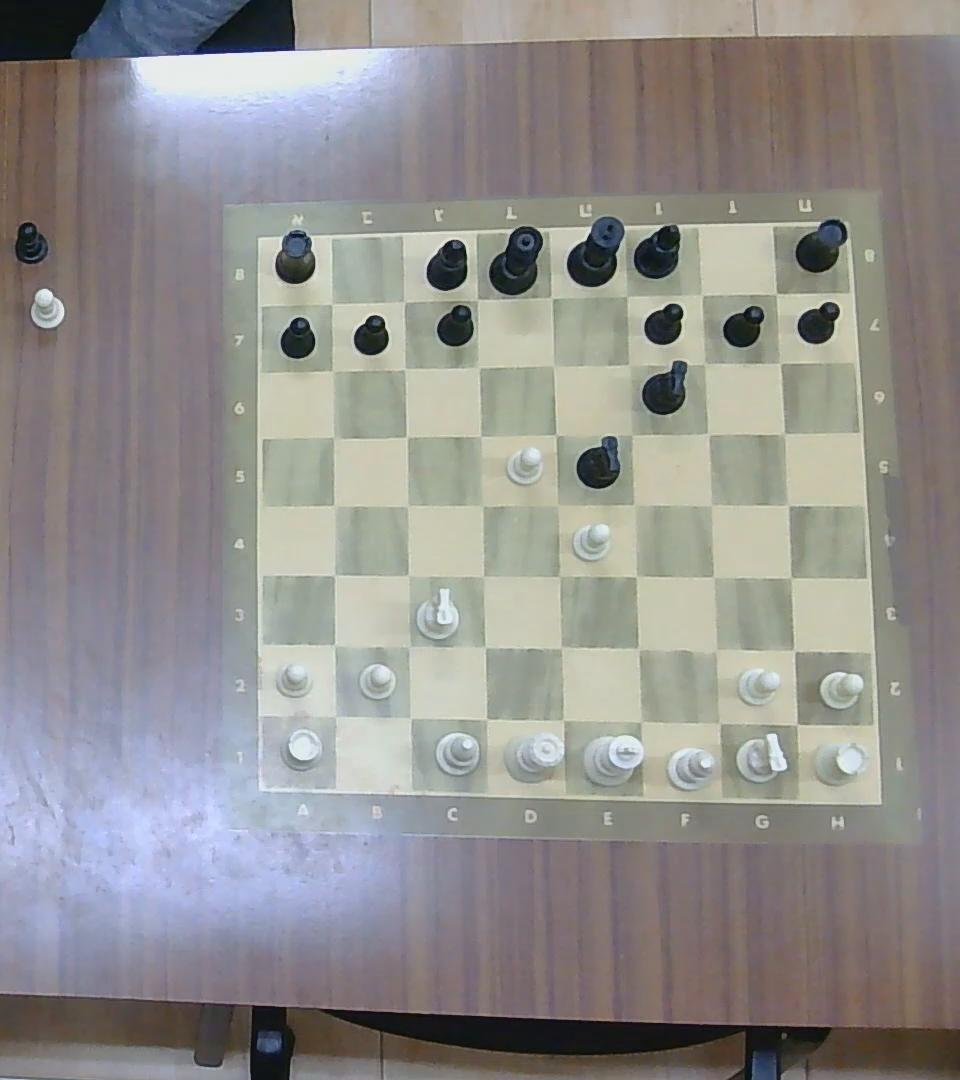xcorner: (621, 631, 654, 664), (701, 706, 735, 738), (624, 703, 656, 737), (545, 630, 577, 662), (468, 630, 500, 662), (780, 706, 812, 738), (547, 702, 578, 735), (699, 634, 731, 665), (393, 701, 424, 732), (470, 703, 501, 734), (698, 561, 728, 592), (319, 700, 350, 730), (775, 563, 806, 593), (777, 636, 808, 666), (468, 560, 498, 590), (621, 560, 651, 590), (393, 631, 423, 661), (319, 629, 349, 659), (544, 560, 573, 590), (616, 419, 645, 448), (393, 561, 423, 589), (320, 559, 348, 588), (467, 490, 496, 518), (773, 490, 802, 518), (543, 490, 572, 518), (463, 284, 491, 313), (393, 490, 421, 518), (621, 490, 649, 518), (320, 491, 349, 518), (693, 420, 722, 447), (537, 283, 566, 310), (697, 491, 725, 518), (542, 420, 570, 447), (318, 421, 345, 448), (612, 282, 640, 308), (771, 420, 798, 446), (317, 291, 345, 316), (393, 422, 419, 448), (318, 356, 344, 382), (540, 351, 566, 377), (467, 422, 492, 448), (616, 351, 641, 377), (763, 281, 789, 305), (691, 350, 716, 374), (466, 354, 490, 378), (390, 290, 415, 313), (767, 349, 792, 372), (391, 356, 415, 379), (690, 282, 713, 304)
